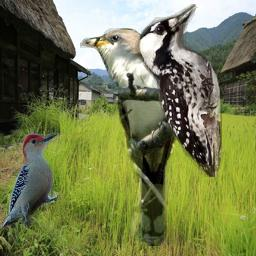Cuckoo: (80, 28, 185, 246)
Woodpecker: (135, 4, 222, 177), (0, 132, 59, 231)
